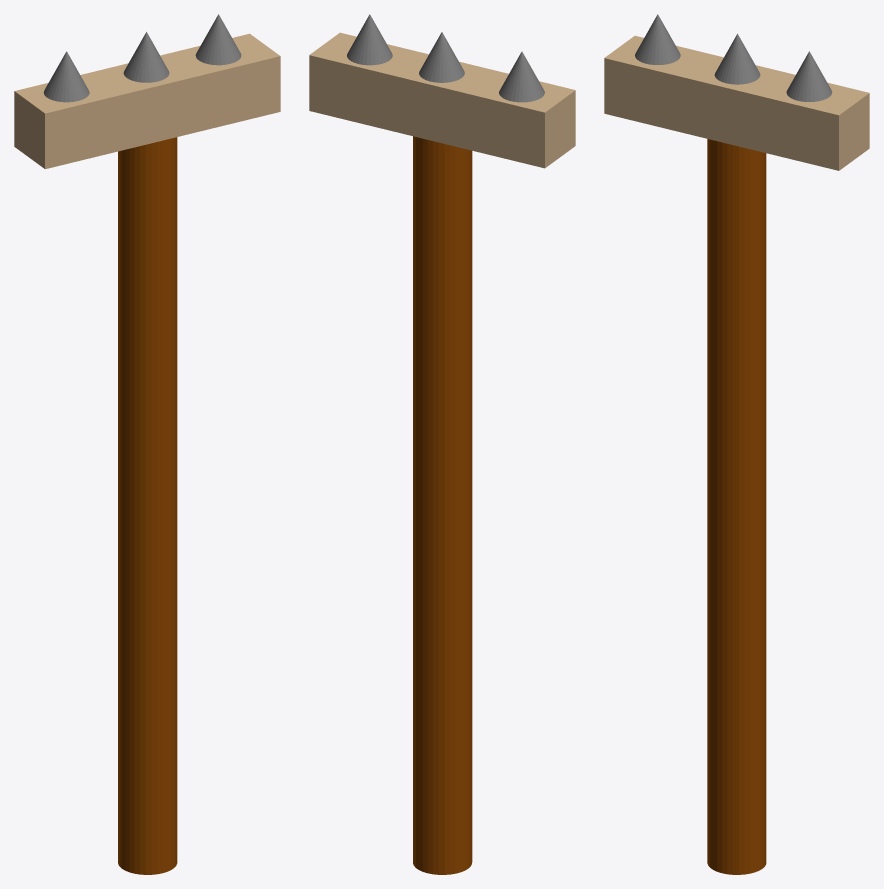
Rendered from PowerPole.fbx.
3 views of the same model, side by side, from view 1: azimuth 30°, elevation 25°; view 2: azimuth 150°, elevation 25°; view 3: azimuth 330°, elevation 25° (orthographic).
Parts seen in each view (by area): view 1: Pole, Cross-Bar, Left Spoke, Right Spoke, Center Spoke; view 2: Pole, Cross-Bar, Right Spoke, Left Spoke, Center Spoke; view 3: Pole, Cross-Bar, Center Spoke, Right Spoke, Left Spoke.
Boxes of the visible parts, x1,y1,x2,y2 form: Pole: [118, 137, 177, 874]; Cross-Bar: [14, 33, 280, 169]; Left Spoke: [195, 14, 241, 65]; Right Spoke: [43, 51, 89, 102]; Center Spoke: [123, 32, 169, 82]; Pole: [413, 136, 472, 874]; Cross-Bar: [309, 32, 575, 168]; Right Spoke: [499, 51, 544, 102]; Left Spoke: [347, 14, 392, 65]; Center Spoke: [419, 32, 464, 82]; Pole: [707, 139, 766, 874]; Cross-Bar: [604, 35, 869, 170]; Center Spoke: [714, 34, 760, 84]; Right Spoke: [635, 14, 680, 64]; Left Spoke: [786, 51, 832, 101].
Size of the model in its own units: 246 by 829 by 55.64.
